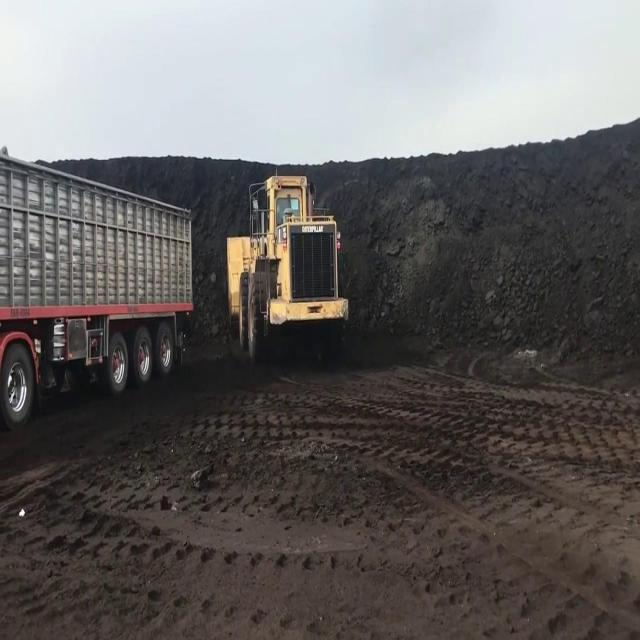Dump Truck: (0, 149, 192, 430)
Loader: (228, 171, 346, 361)
